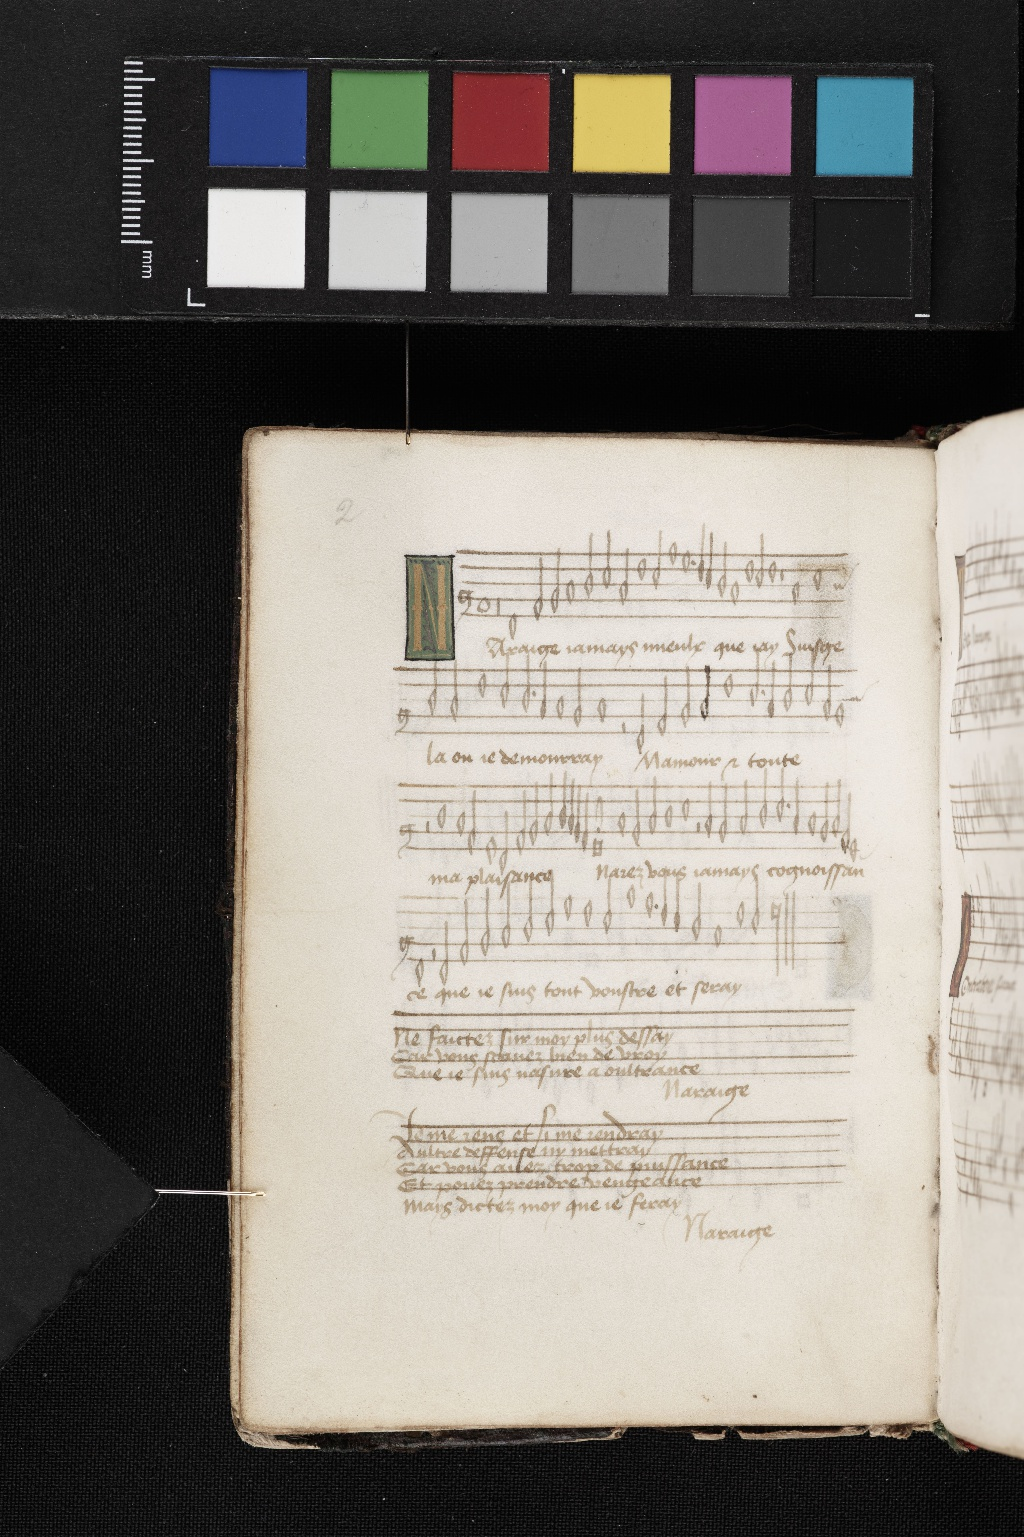Pmin: (472, 587, 490, 621)
breve rest: (491, 549, 504, 634)
custos_7: (830, 563, 855, 601)
g clef_9: (454, 574, 475, 621)
minim_10: (529, 553, 546, 626)
minim_6: (599, 529, 616, 595), (648, 531, 664, 597), (752, 533, 767, 597)
minim_7: (581, 536, 597, 605), (714, 541, 729, 603)
minim_8: (616, 542, 633, 611)
minim_9: (549, 549, 565, 622)
point: (687, 553, 699, 573)
semibreve rest: (775, 549, 786, 614)
semibreve_12: (504, 606, 523, 643)
semibreve_3: (665, 538, 680, 568)
semibreve_4: (679, 544, 693, 576)
semibreve_5: (741, 553, 757, 586), (634, 551, 649, 584), (765, 557, 779, 587)
semibreve_6: (808, 562, 827, 598)
semibreve_8: (786, 575, 805, 611), (565, 575, 581, 608), (731, 576, 742, 610)
semiminim_5: (696, 527, 707, 587)
semiminim_6: (703, 529, 714, 597)
